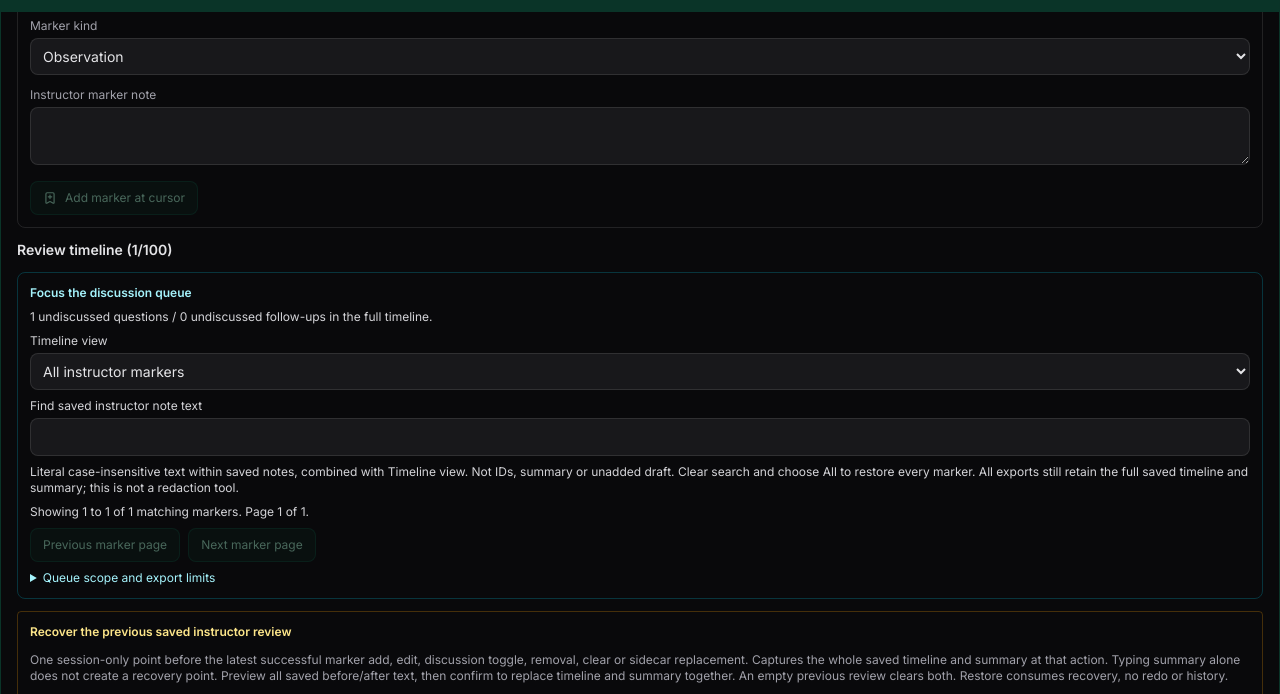
Scenario: instructor review timeline › shows zero matches without hiding retained annotations permanently and restores discussed markers through All
The width and height of the screenshot is (1280, 694).
(page scrolled)
Select "Undiscussed questions only" in the dropdown named "Instructor timeline view" at (640, 372), box [30,353,1250,390]
(page scrolled)
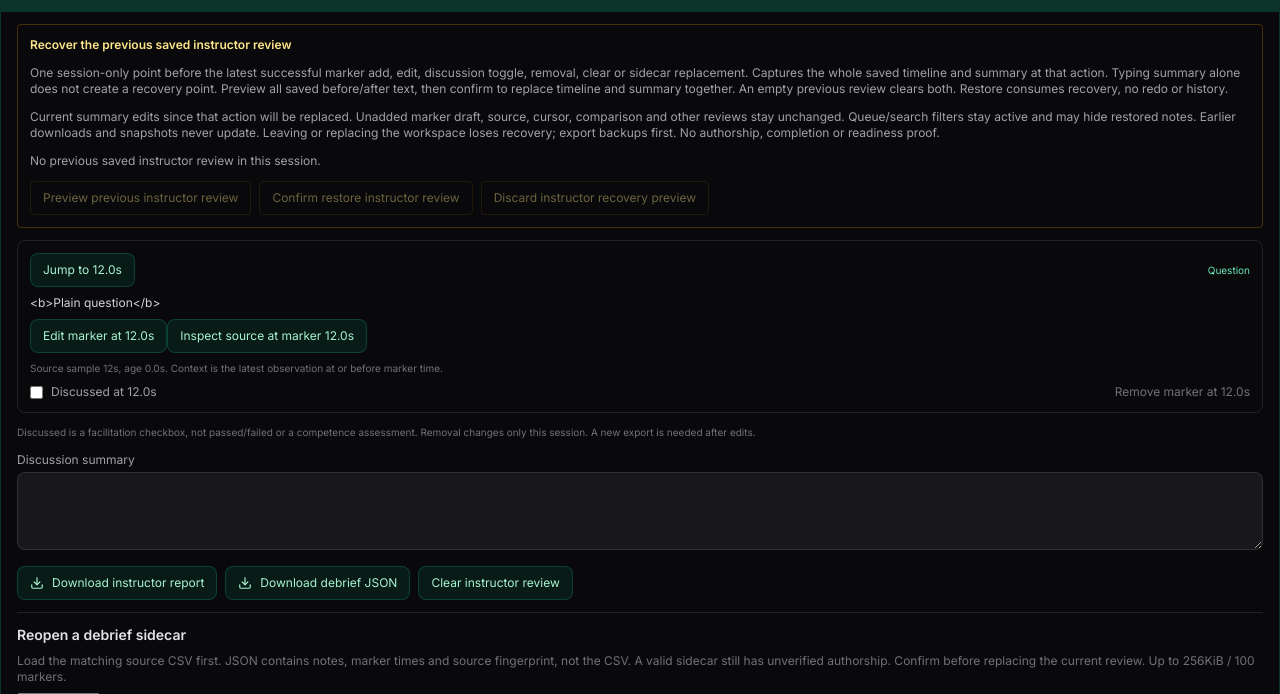
Expected: the text "<b>Plain question</b>" is shown, [30,295,160,310]
Click the checkbox labelled "Discussed at 12.0s" at (36, 392), box [30,386,43,398]
(page scrolled)
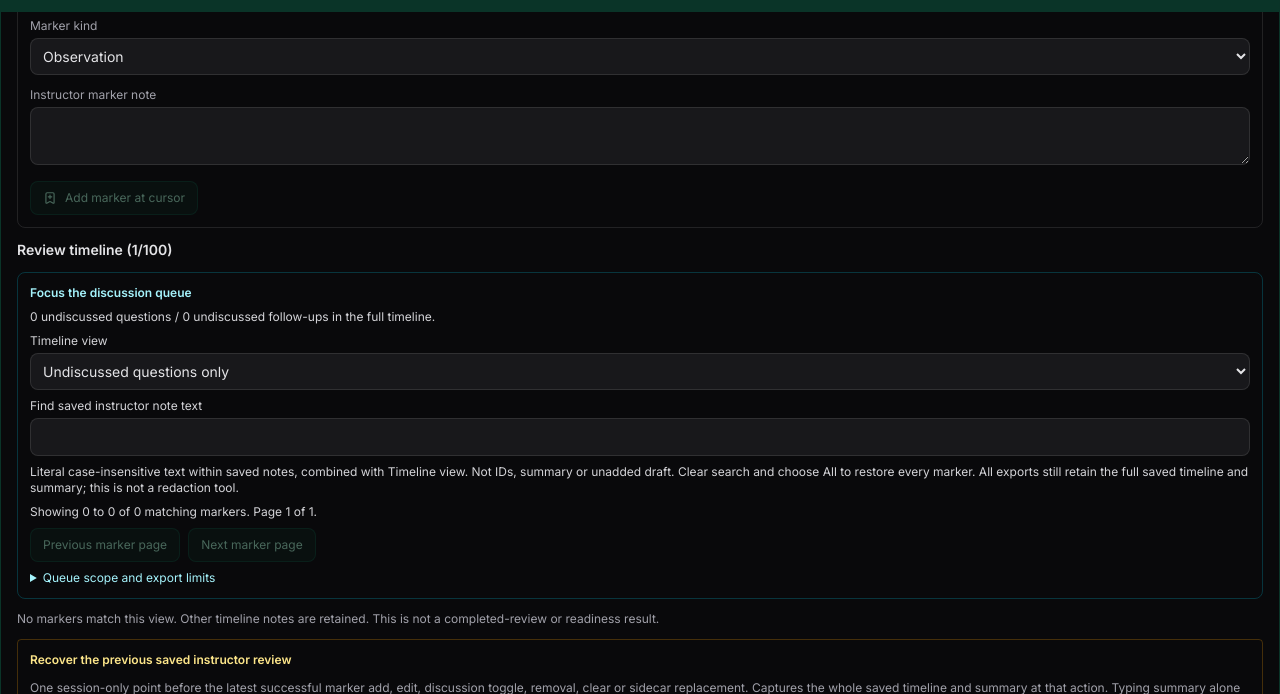
Expected: the text "No markers match this view" is shown, [17,611,659,626]
Expected: the text "Showing 0 to 0 of 0 matching markers. Page 1 of 1." is shown, [30,504,317,519]
Expected: the button "Previous marker page" is disabled, [30,528,180,562]
Select "All instructor markers" in the dropdown named "Instructor timeline view" at (640, 372), box [30,353,1250,390]
(page scrolled)
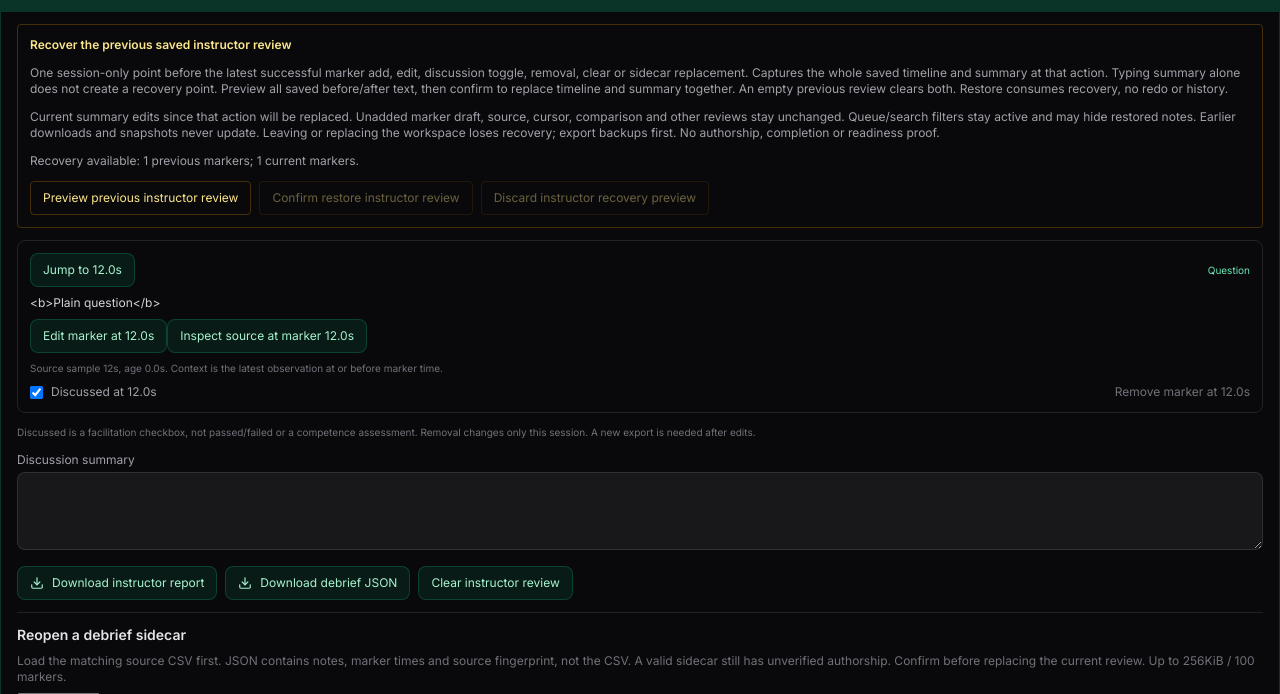
Expected: the checkbox labelled "Discussed at 12.0s" is checked
Click the checkbox labelled "Discussed at 12.0s" at (36, 392), box [30,386,43,398]
(page scrolled)
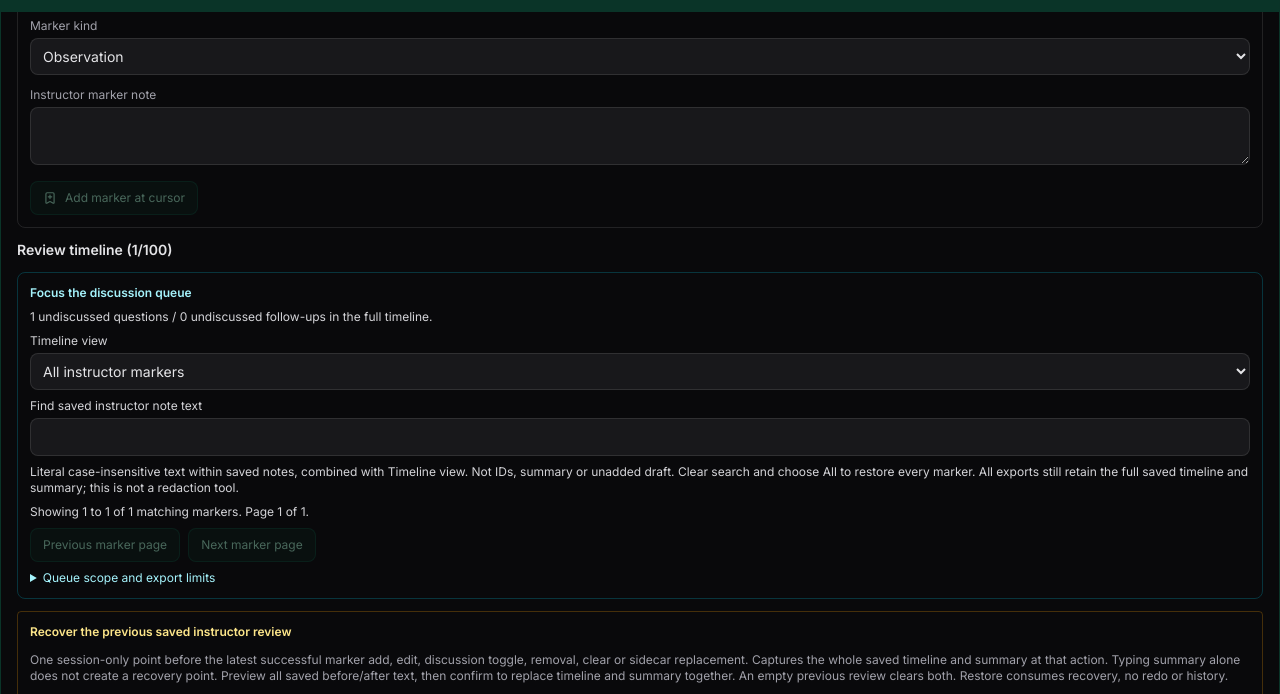
Select "Undiscussed follow-ups only" in the dropdown named "Instructor timeline view" at (640, 372), box [30,353,1250,390]
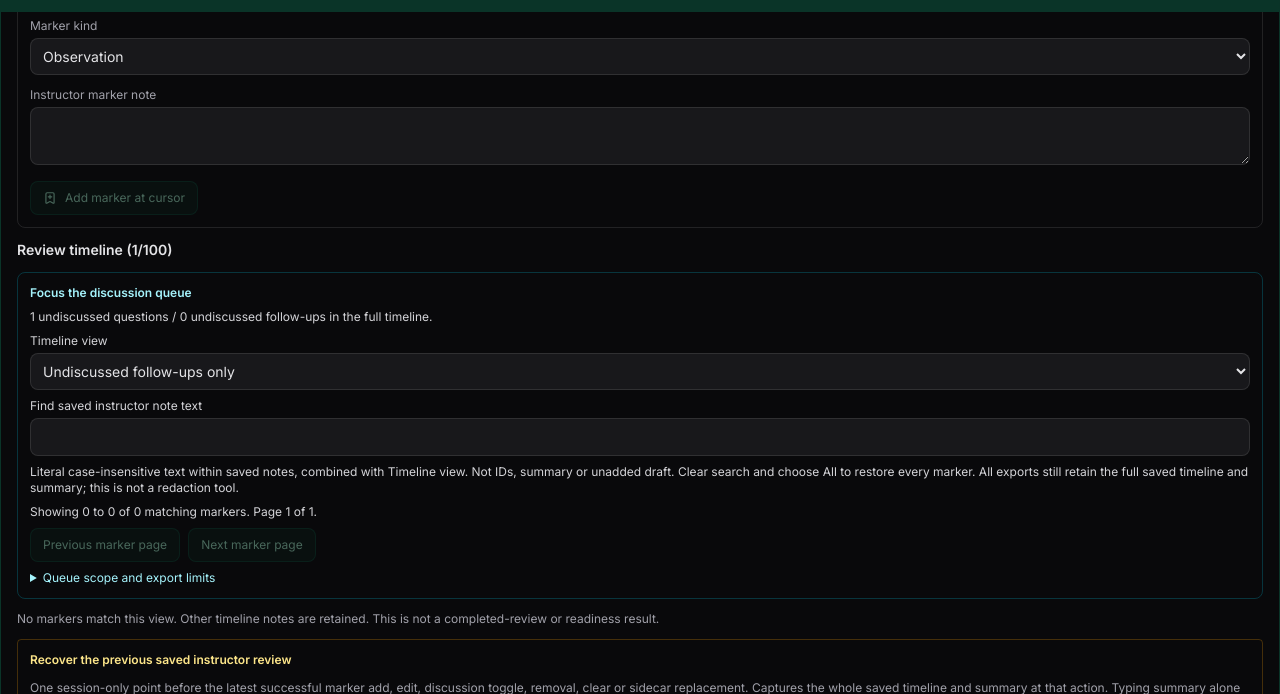
Expected: the text "No markers match this view" is shown, [17,611,659,626]
Select "Undiscussed questions and follow-ups" in the dropdown named "Instructor timeline view" at (640, 372), box [30,353,1250,390]
(page scrolled)
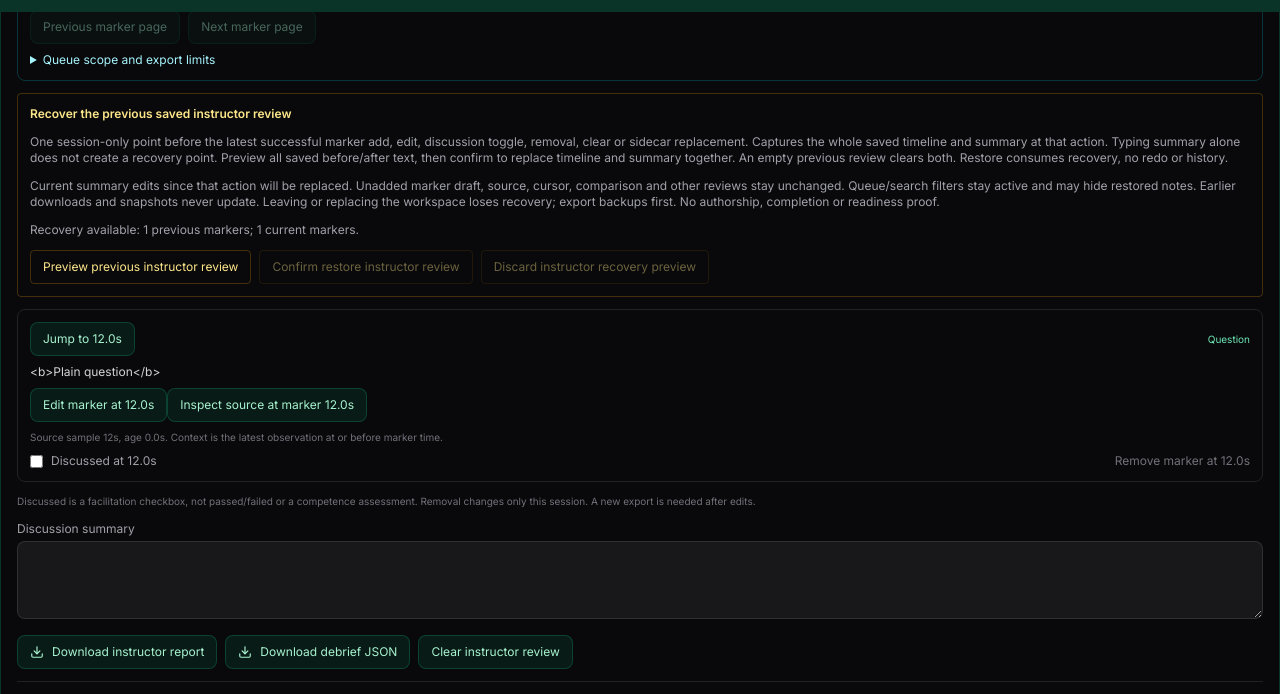
Expected: the text "<b>Plain question</b>" is shown, [30,364,160,379]
